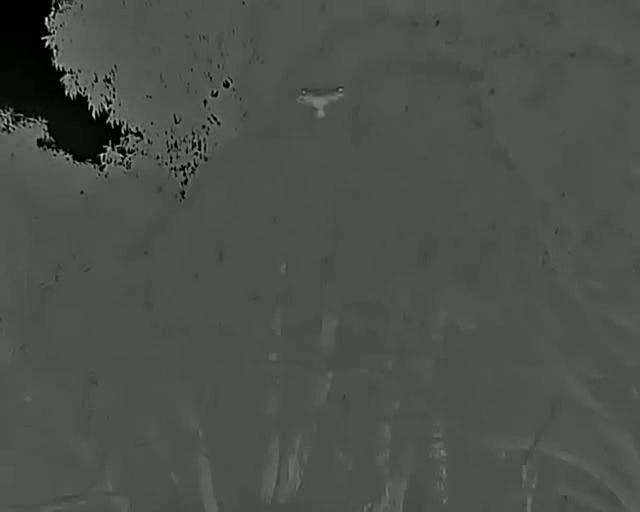DJI-Phantom: (297, 88, 344, 118)
